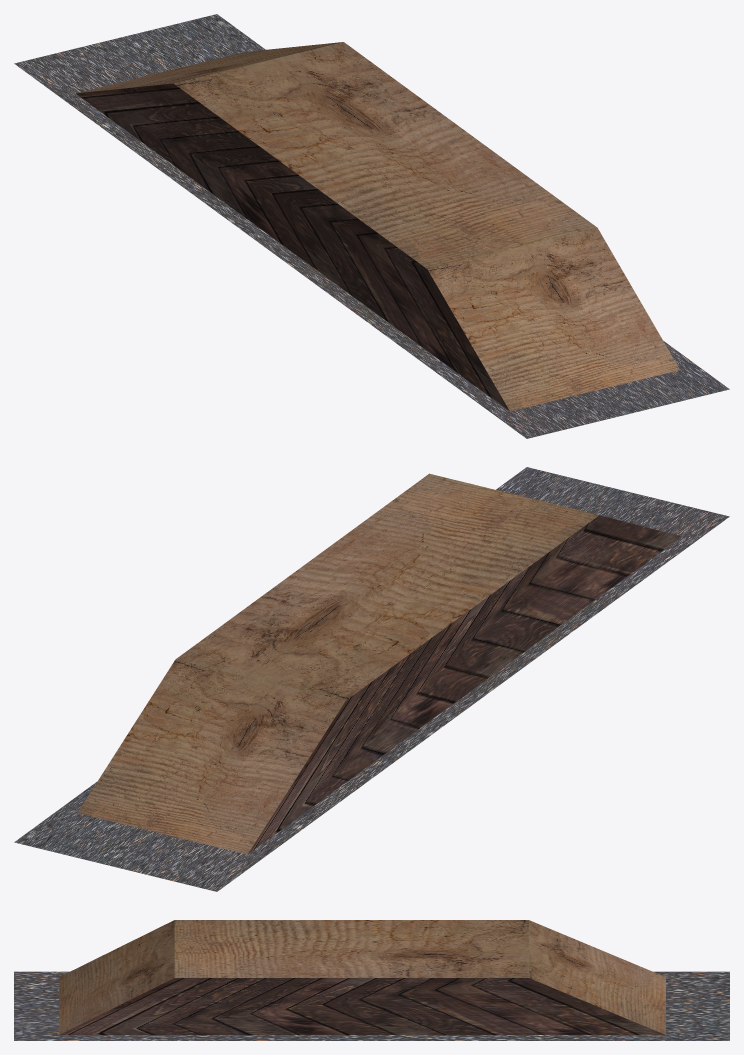
The model's file is again ramp.FBX.
3 views of the same model, one above another, from view 1: azimuth 30°, elevation 25°; view 2: azimuth 150°, elevation 25°; view 3: azimuth 270°, elevation 25° (orthographic). The views are drawn at different scales.
Visible parts, largest first — view 1: Box001, Plane001; view 2: Box001, Plane001; view 3: Box001, Plane001.
Part boxes in pixels (x1,y1,x2,y2): Box001: [76, 42, 679, 411]; Plane001: [14, 14, 729, 438]; Box001: [77, 473, 681, 854]; Plane001: [14, 467, 729, 891]; Box001: [59, 920, 665, 1034]; Plane001: [14, 971, 729, 1040].
Size of the model in its own units: 191 by 79.49 by 837.
Materials: 3 (3 with a texture image).
